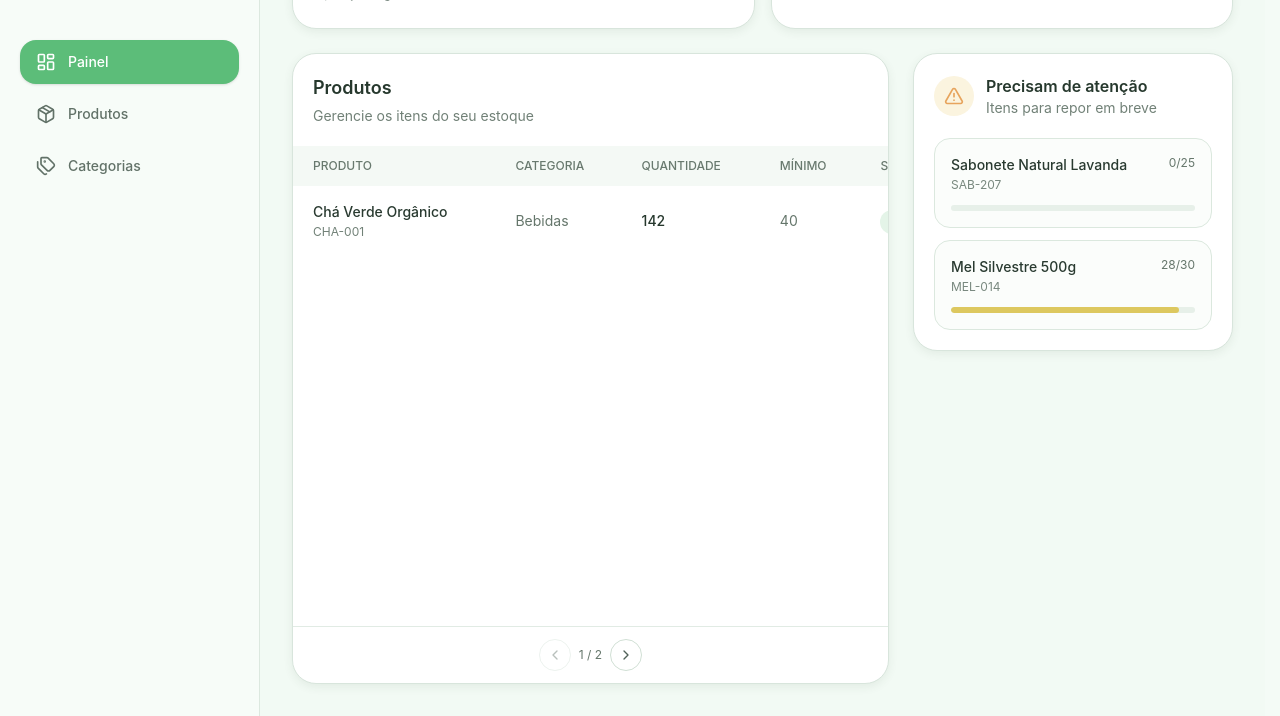
it: DashboardPage › navigates through product preview pages with compact controls
The width and height of the screenshot is (1280, 716).
(page scrolled)
Expected: the text "Chá Verde Orgânico" is shown, [313,203,448,220]
Expected: the text "1 / 2" is shown, [579,647,602,663]
Click the button named "próxima página": (626, 655) [610,639,642,671]
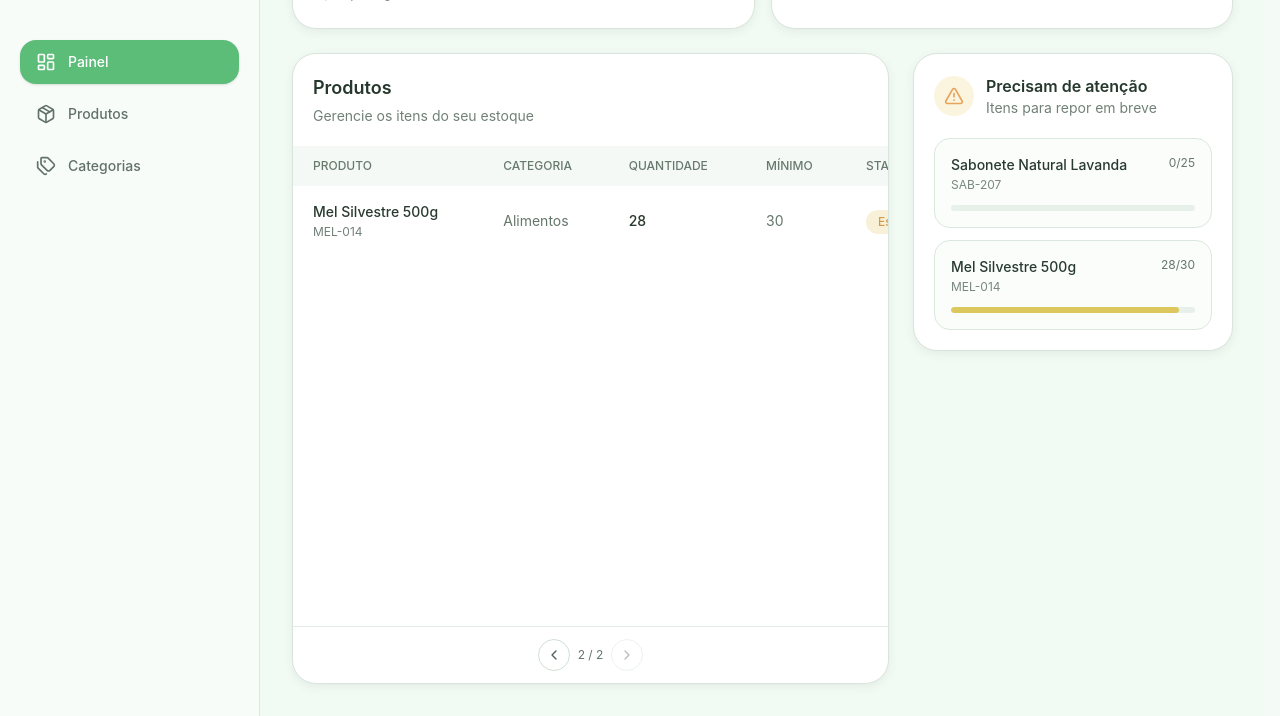
Result: the text "Mel Silvestre 500g" next to "Alimentos" is shown at [313,203,438,220]
Result: the text "Chá Verde Orgânico" is gone
Result: the button named "próxima página" is disabled at [611,639,643,671]
